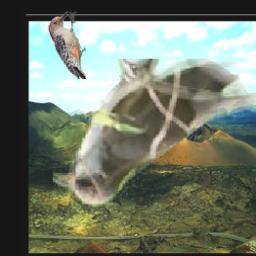Cuckoo: (53, 59, 256, 206)
Woodpecker: (49, 12, 87, 80)
